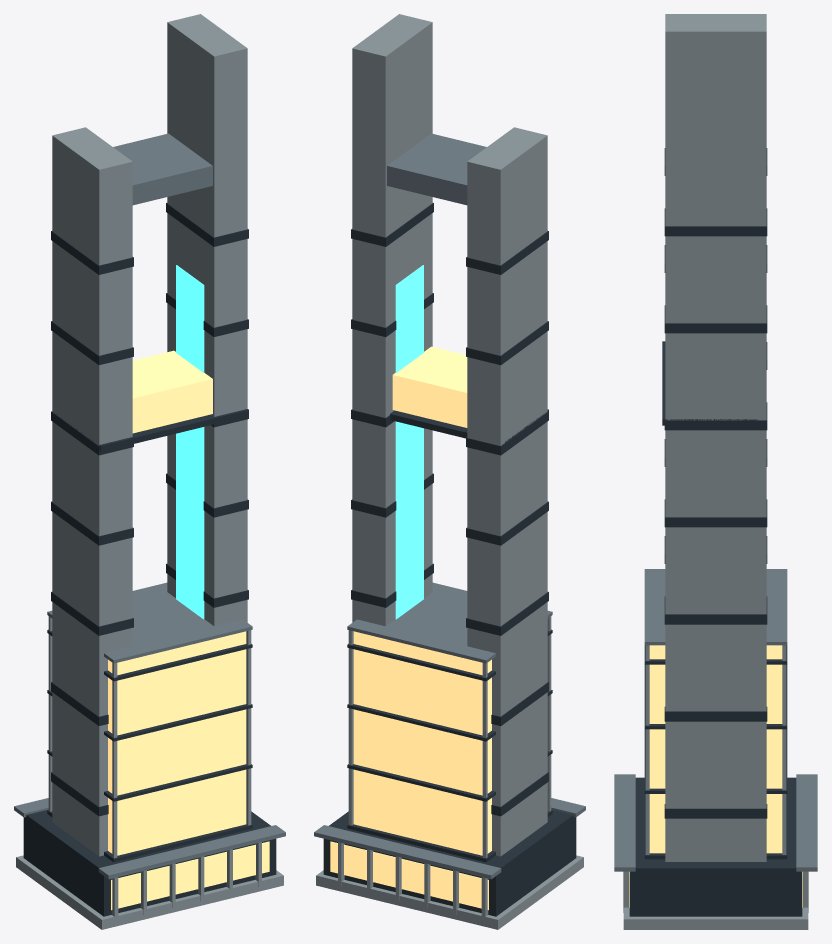
File: vrx_city_landmark_a_LOD1.fbx
The picture shows the model from 3 angles, left to right: view 1: azimuth 30°, elevation 25°; view 2: azimuth 150°, elevation 25°; view 3: azimuth 270°, elevation 25°; orthographic projection. The views are drawn at different scales.
Parts seen in each view (by area): view 1: vrx_city_landmark_a_LOD1; view 2: vrx_city_landmark_a_LOD1; view 3: vrx_city_landmark_a_LOD1.
Boxes of the visible parts, left/top/right/bottom form: vrx_city_landmark_a_LOD1: left=14, top=14, right=285, bottom=929; vrx_city_landmark_a_LOD1: left=314, top=14, right=585, bottom=929; vrx_city_landmark_a_LOD1: left=614, top=14, right=817, bottom=929.
Bounding box in the file's own units: 38 × 165 × 34.2.
